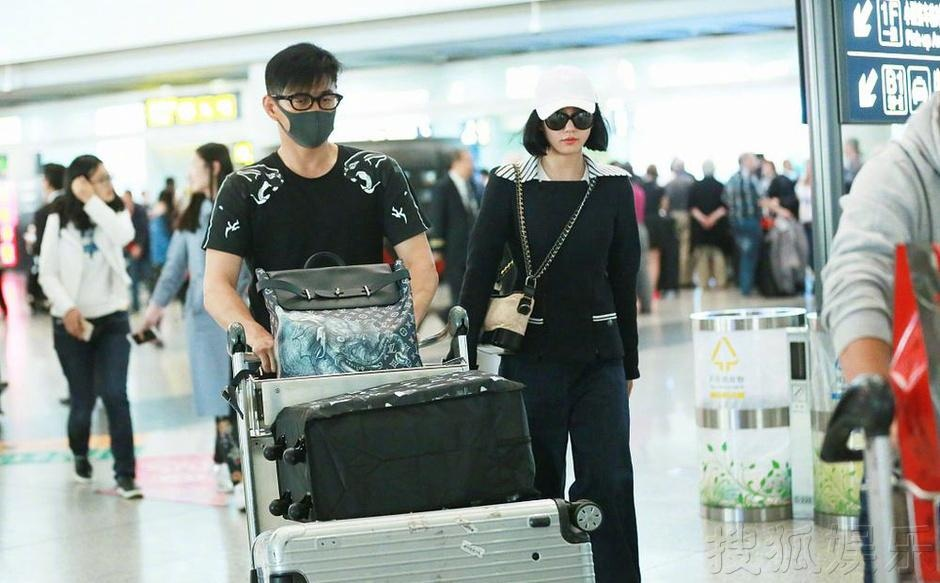Mask: (279, 85, 341, 146)
